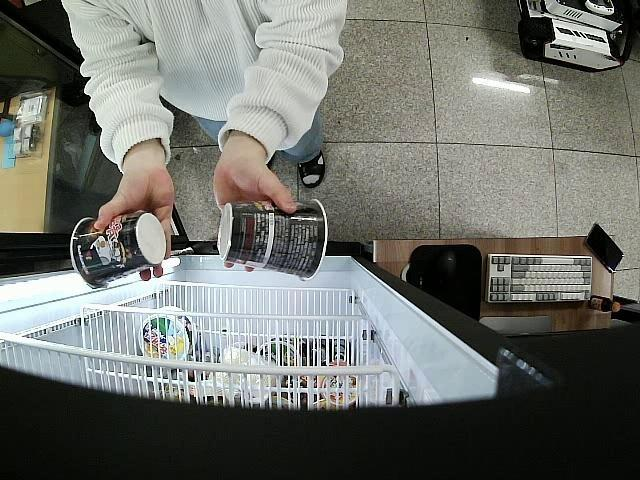08_buldak_S: (216, 198, 329, 284), (68, 213, 165, 291)
